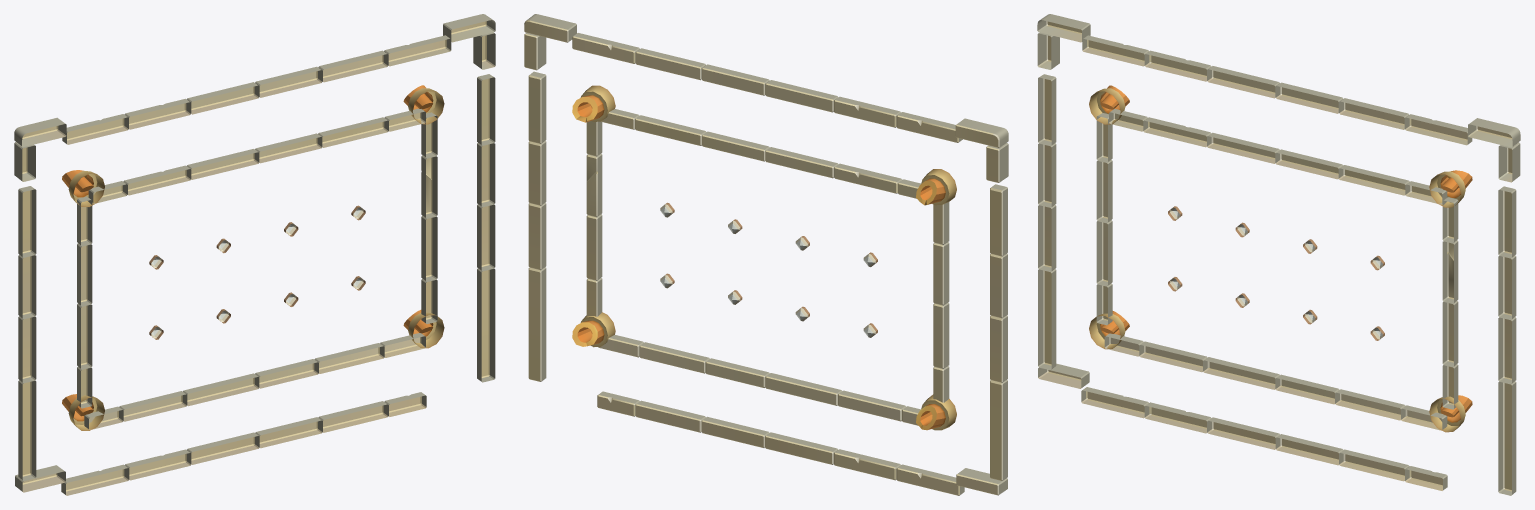
Rendered from scene1_wall.FBX.
3 views of the same model, side by side, from view 1: azimuth 30°, elevation 25°; view 2: azimuth 150°, elevation 25°; view 3: azimuth 330°, elevation 25° (orthographic).
Parts seen in each view (by area): view 1: scene1_wall; view 2: scene1_wall; view 3: scene1_wall.
Part boxes in pixels (x1,y1,x2,y2): scene1_wall: (14,14,495,495); scene1_wall: (524,14,1008,495); scene1_wall: (1037,14,1520,495).
Bounding box in the file's own units: 1054 × 792 × 73.89.
Materials: 1 (1 with a texture image).
